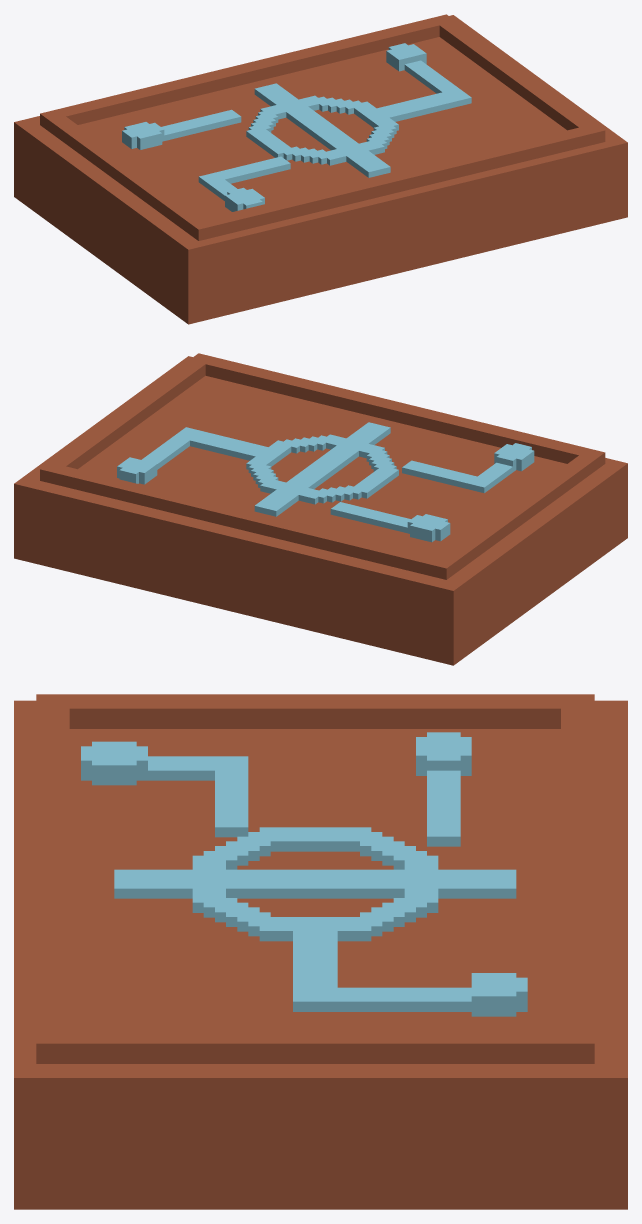
Rendered from rune_clay_tablet.glb.
3 views of the same model, one above another, from view 1: azimuth 30°, elevation 25°; view 2: azimuth 150°, elevation 25°; view 3: azimuth 270°, elevation 25° (orthographic). The views are drawn at different scales.
Visible parts, largest first — view 1: rune_clay_tablet:compound; view 2: rune_clay_tablet:compound; view 3: rune_clay_tablet:compound.
Boxes of the visible parts, <box> form: rune_clay_tablet:compound: <box>14,14,627,324</box>; rune_clay_tablet:compound: <box>14,353,627,665</box>; rune_clay_tablet:compound: <box>14,694,627,1209</box>.
Size of the model in its own units: 0.16 by 0.03 by 0.11.
